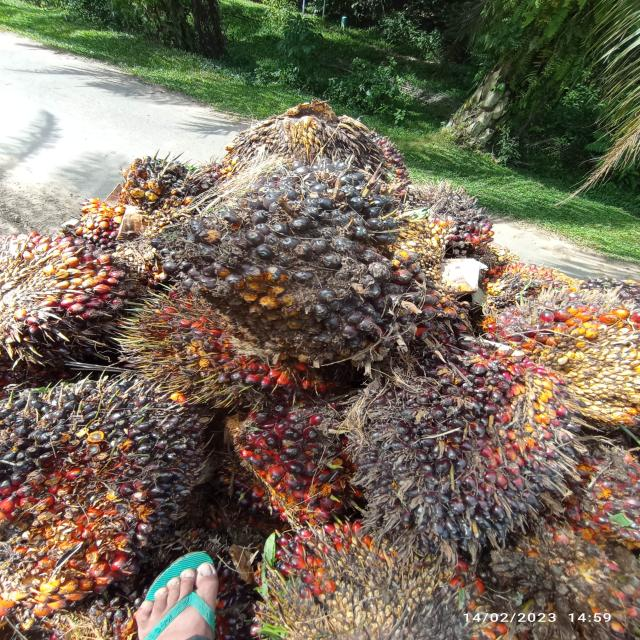fraksi 00: (168, 166, 430, 378), (0, 376, 231, 614), (356, 327, 576, 548)
fraksi 1: (223, 405, 367, 532)
